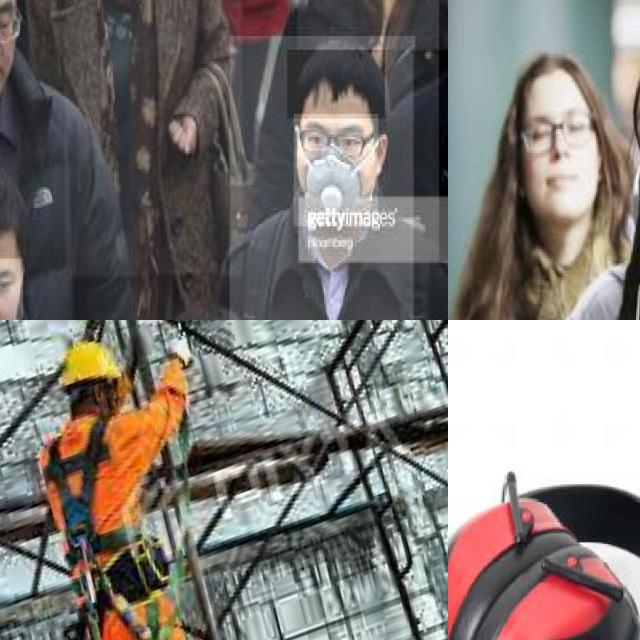Ear-protection: (448, 481, 640, 640)
Harness: (43, 419, 110, 618)
face_mask: (294, 114, 378, 226)
face_nomask: (518, 102, 598, 222), (0, 0, 16, 106)
glasses: (518, 106, 598, 159), (298, 122, 369, 163), (0, 6, 19, 47)
head_nohelmet: (287, 50, 385, 119), (511, 50, 590, 112), (0, 176, 27, 254)
person: (229, 36, 415, 320), (64, 0, 242, 276), (0, 0, 151, 320), (448, 64, 632, 320), (581, 14, 640, 320), (0, 150, 97, 320)
